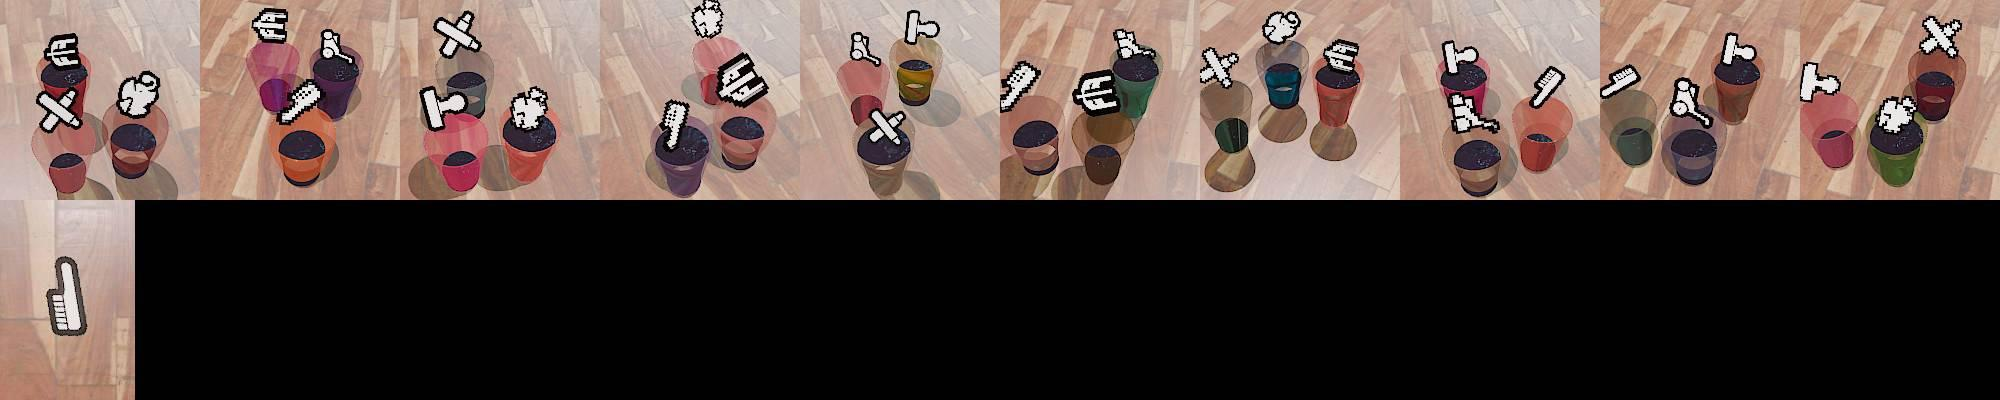icon: (47, 255, 88, 336), (714, 51, 769, 107), (1071, 69, 1124, 118), (432, 10, 483, 60), (1670, 76, 1717, 129), (274, 79, 323, 125), (420, 84, 466, 131), (1448, 92, 1499, 134), (1000, 60, 1041, 112), (116, 71, 161, 117), (36, 88, 82, 132), (1798, 60, 1842, 103), (1920, 15, 1963, 56), (510, 85, 550, 129), (1199, 46, 1239, 89), (867, 103, 908, 144), (1875, 94, 1917, 134), (1112, 27, 1157, 64), (1529, 65, 1566, 110), (319, 28, 357, 69), (1599, 64, 1643, 99), (661, 98, 690, 150), (1718, 32, 1756, 70), (251, 8, 290, 45), (903, 9, 940, 46), (1441, 39, 1480, 75), (689, 0, 724, 38), (1261, 10, 1301, 45), (1323, 38, 1360, 74), (45, 33, 82, 69), (849, 32, 881, 68)
